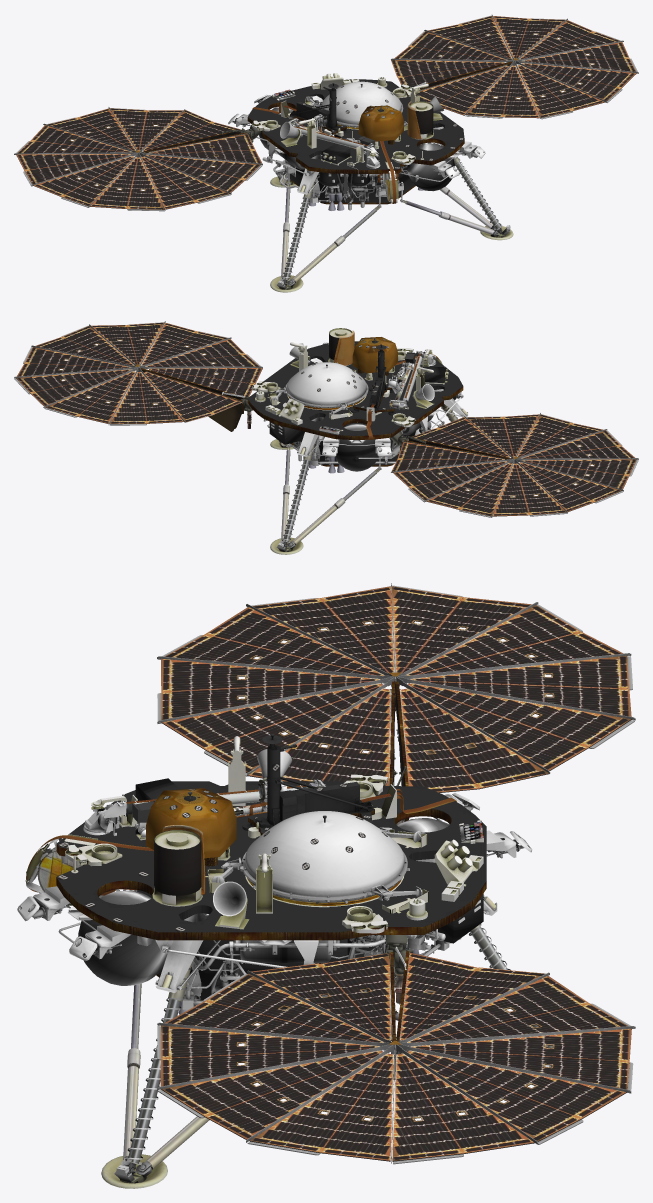
Rendered from in-sight-cruise-lander-2.glb.
3 renders of one model, top to bottom at view 1: azimuth 30°, elevation 25°; view 2: azimuth 150°, elevation 25°; view 3: azimuth 270°, elevation 25°, orthographic. The views are drawn at different scales.
Parts seen in each view (by area): view 1: Lander Deployed Simplified coarse.1043, leg_l, Cylinder.000, leg_r, SEIS, Cube.056, Cube.095, Cube.051, Cube.055, Cube.079, Cube.001, Cube.050 (+38 smaller); view 2: Lander Deployed Simplified coarse.1043, Cylinder.000, leg_b, SEIS, Cube.047, Cube.083, Cube.081, Cube.078, Cube.064, Cube.085, Cube.049, Cube.061 (+39 smaller); view 3: Lander Deployed Simplified coarse.1043, Cylinder.000, leg_r, Cube.089, Cube.059, Cube.091, Cube.060, Cube.087, HP3_v3d_baked, Cube.057, SEIS, Cube.086 (+42 smaller).
Boxes of the visible parts, <box> form: Lander Deployed Simplified coarse.1043: <box>228,73,485,210</box>; leg_l: <box>270,177,380,292</box>; Cylinder.000: <box>311,81,403,128</box>; leg_r: <box>401,145,513,240</box>; SEIS: <box>358,105,403,144</box>; Cube.056: <box>143,156,230,203</box>; Cube.095: <box>465,65,513,118</box>; Cube.051: <box>127,157,164,211</box>; Cube.055: <box>146,154,262,180</box>; Cube.079: <box>391,60,504,77</box>; Cube.001: <box>33,156,133,196</box>; Cube.050: <box>90,157,137,208</box>; Lander Deployed Simplified coarse.1043: <box>244,340,468,473</box>; Cylinder.000: <box>275,362,368,409</box>; leg_b: <box>270,439,381,554</box>; SEIS: <box>352,337,397,375</box>; Cube.047: <box>520,462,623,503</box>; Cube.083: <box>44,371,134,417</box>; Cube.081: <box>109,372,147,425</box>; Cube.078: <box>144,372,241,414</box>; Cube.064: <box>516,463,567,516</box>; Cube.085: <box>14,369,131,394</box>; Cube.049: <box>522,459,638,476</box>; Cube.061: <box>426,463,510,509</box>; Lander Deployed Simplified coarse.1043: <box>17,774,532,1014</box>; Cylinder.000: <box>221,811,409,903</box>; leg_r: <box>101,958,209,1188</box>; Cube.089: <box>247,1053,390,1155</box>; Cube.059: <box>404,688,549,788</box>; Cube.091: <box>158,1050,382,1118</box>; Cube.060: <box>408,683,634,748</box>; Cube.087: <box>392,1054,464,1164</box>; HP3_v3d_baked: <box>242,733,374,840</box>; Cube.057: <box>161,683,382,750</box>; SEIS: <box>146,788,236,866</box>; Cube.086: <box>400,1053,534,1153</box>.
Bounding box in the file's own units: 6.14 × 1.58 × 2.77.
11 materials, 11 textured.
